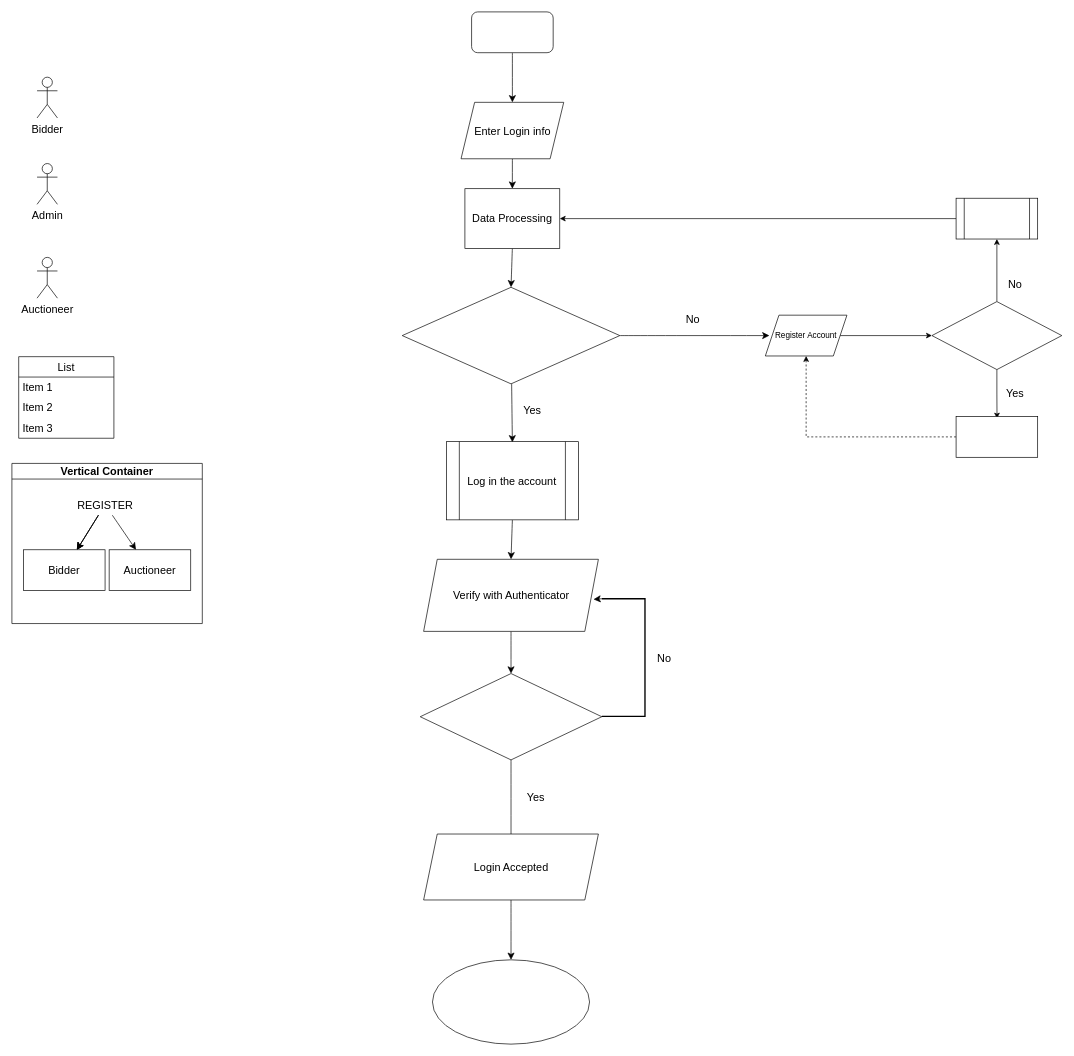
Some shapes in this 1074 by 1056 pixel diagram are drawn without their labels. Here are the shapes that lost their labels. From the top down, the centre of each, then its label:
At (x=512, y=32): "Start".
At (x=996, y=218): "Register all the information needed".
At (x=511, y=335): "Does the user login exist?".
At (x=996, y=335): "Username in use?".
At (x=996, y=436): "Create another username".
At (x=511, y=716): "Is the code correct?".
At (x=511, y=1001): "Logged In: BidWin".
